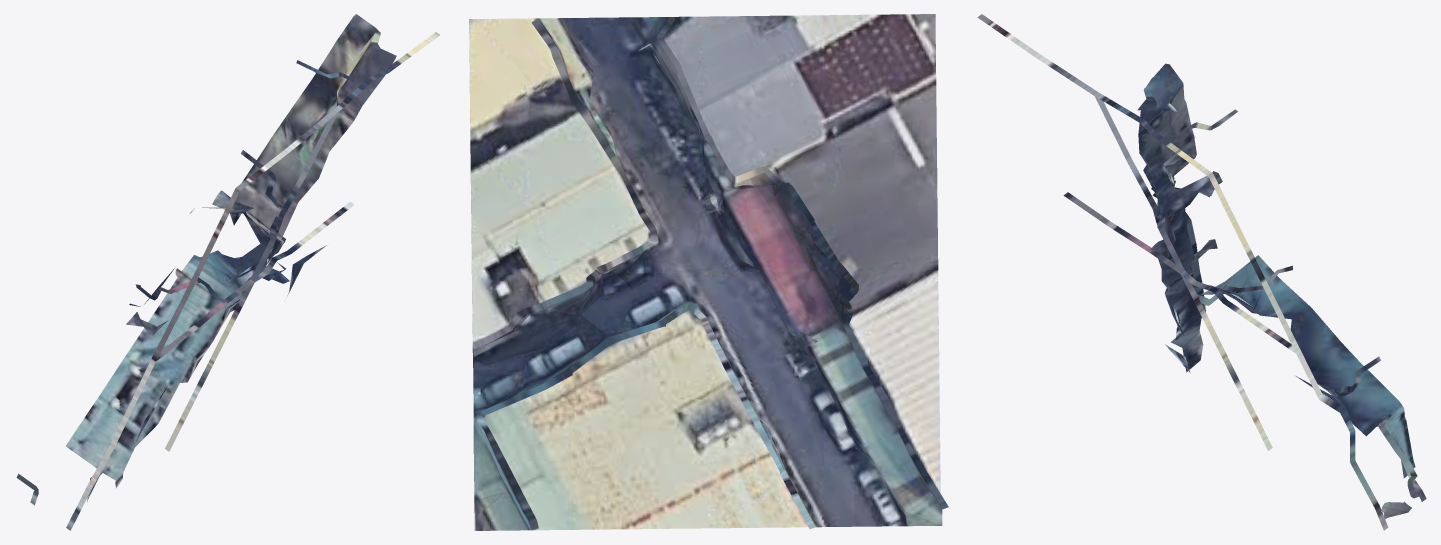
3 renders of one model, left to right at view 1: azimuth 30°, elevation 25°; view 2: azimuth 150°, elevation 25°; view 3: azimuth 270°, elevation 25°, orthographic. The views are drawn at different scales.
Bounding box in the file's own units: 40.92 × 37.09 × 35.17.
Materials: 1 (1 with a texture image).
